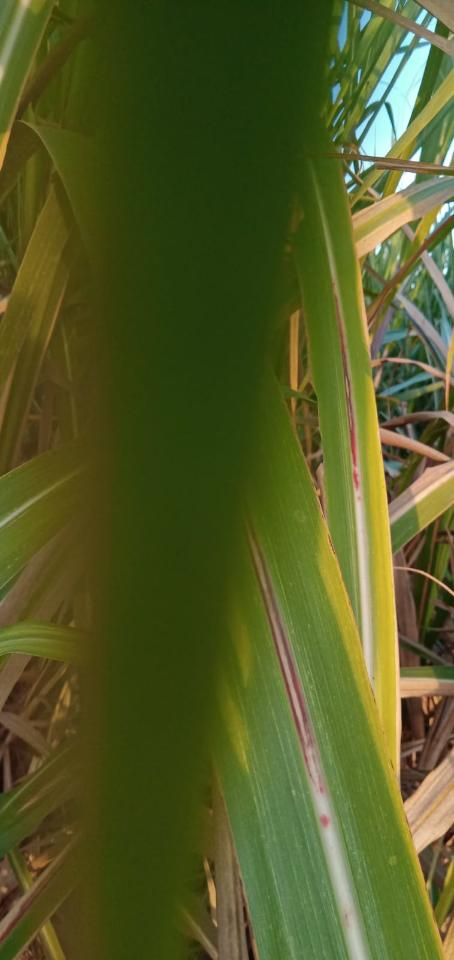RedRot: (242, 504, 330, 831), (332, 278, 362, 502)
